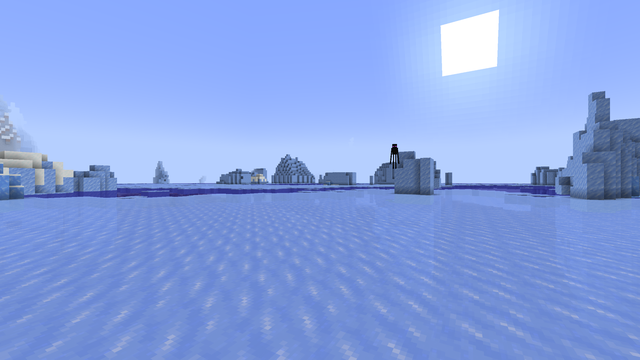endermens: (391, 143, 397, 168)
